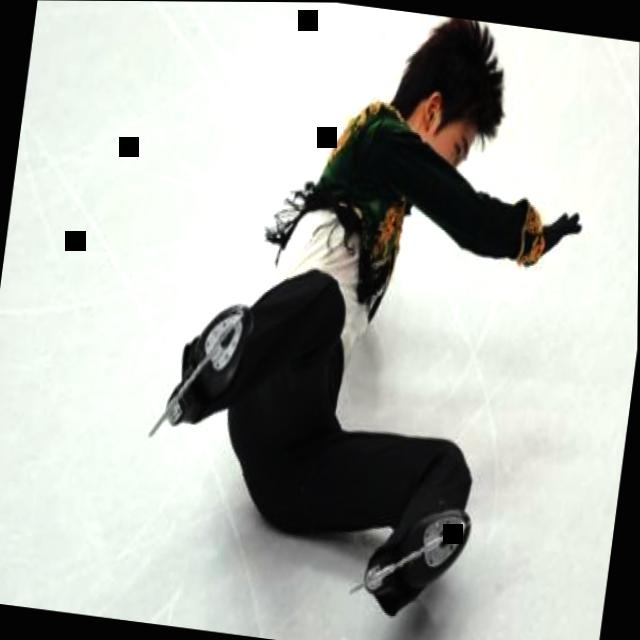Fall-Detected: (117, 1, 611, 640)
